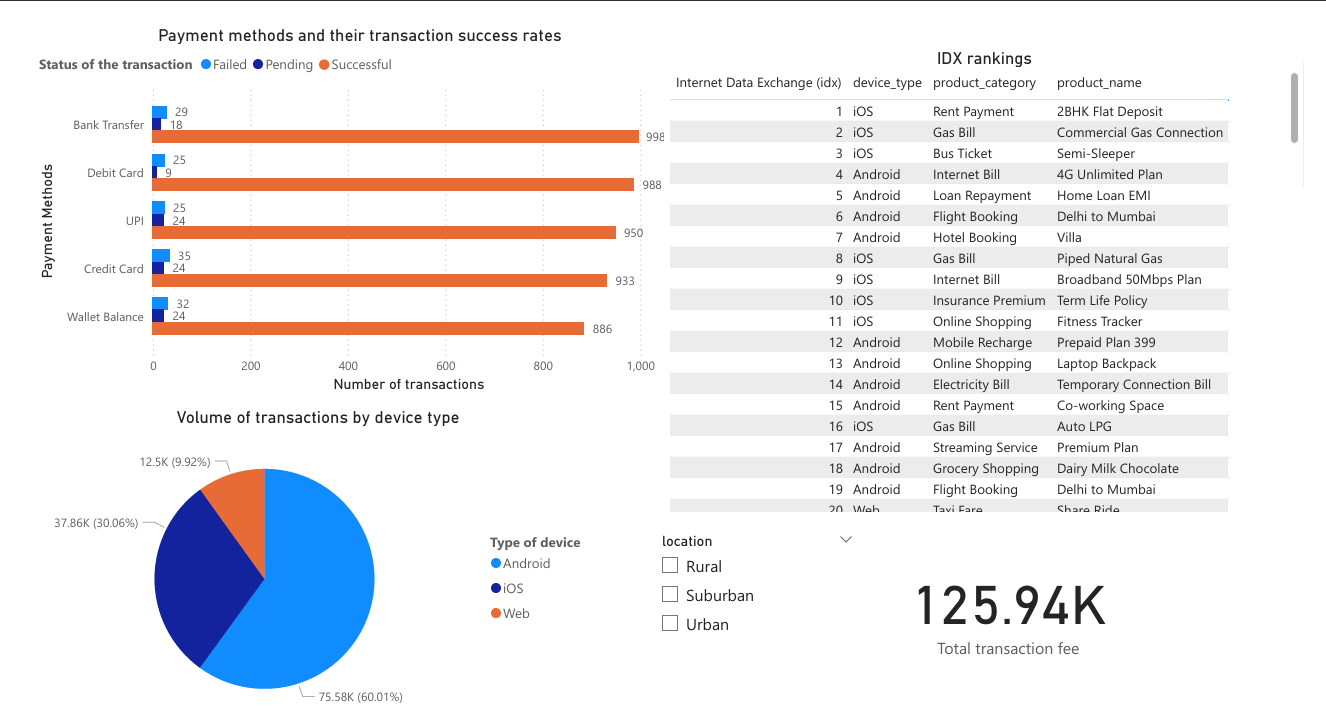

What the dashboard file says about the page in this screenshot:
{"tool":"powerbi","page":{"name":"Payment & Device Analysis","canvas":[1280,720],"ordinal":3},"visuals":[{"type":"clusteredBarChart","title":"Payment methods and their transaction success rates","fields":{"Category":["digital_wallet_transactions.payment_method"],"Y":["CountNonNull(digital_wallet_transactions.transaction_id)"],"Series":["digital_wallet_transactions.transaction_status"]},"box":[9.7,0,652,372.1],"z":0},{"type":"pieChart","title":"Volume of transactions by device type","fields":{"Category":["digital_wallet_transactions.device_type"],"Y":["Sum(digital_wallet_transactions.transaction_fee)"]},"box":[9.7,381.8,567.9,325.2],"z":1000},{"type":"tableEx","title":"IDX rankings","fields":{"Values":["digital_wallet_transactions.Internet Data Exchange (idx)","digital_wallet_transactions.device_type","digital_wallet_transactions.product_category","digital_wallet_transactions.product_name"]},"box":[640.7,22.7,639.1,469.2],"z":2000},{"type":"slicer","fields":{"Values":["digital_wallet_transactions.location"]},"box":[624.5,503.2,216.8,118.1],"z":3000},{"type":"card","fields":{"Values":["Sum(digital_wallet_transactions.transaction_fee)"]},"box":[796,530.7,377,106.8],"z":4000}]}

Visuals, with their boxes on the page's 1280x720 design canvas (x1, y1, x2, y2). These are canvas units, not pixel positions in the 1326x721 screenshot, which may show the page scaled, cropped or inside an application window:
"Payment methods and their transaction success rates" clusteredBarChart: select_region(10, 0, 662, 372)
"Volume of transactions by device type" pieChart: select_region(10, 382, 578, 707)
"IDX rankings" tableEx: select_region(641, 23, 1280, 492)
slicer - digital_wallet_transactions.location: select_region(624, 503, 841, 621)
card - Sum(digital_wallet_transactions.transaction_fee): select_region(796, 531, 1173, 638)
